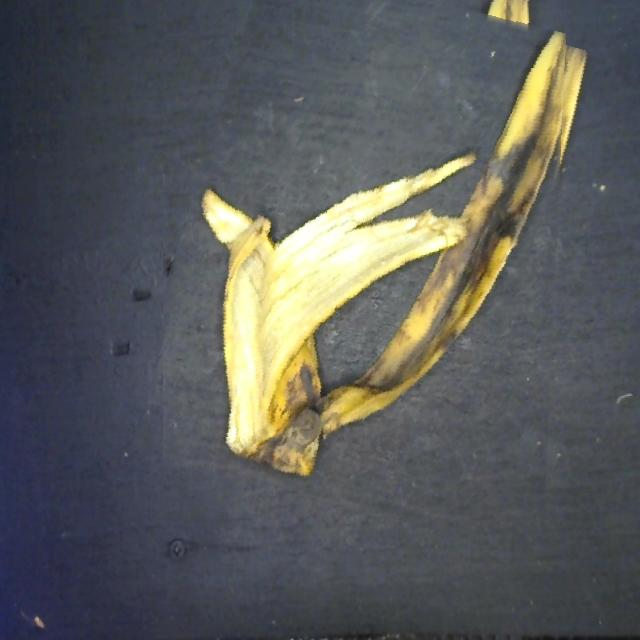biodegradable: (163, 0, 568, 521)
